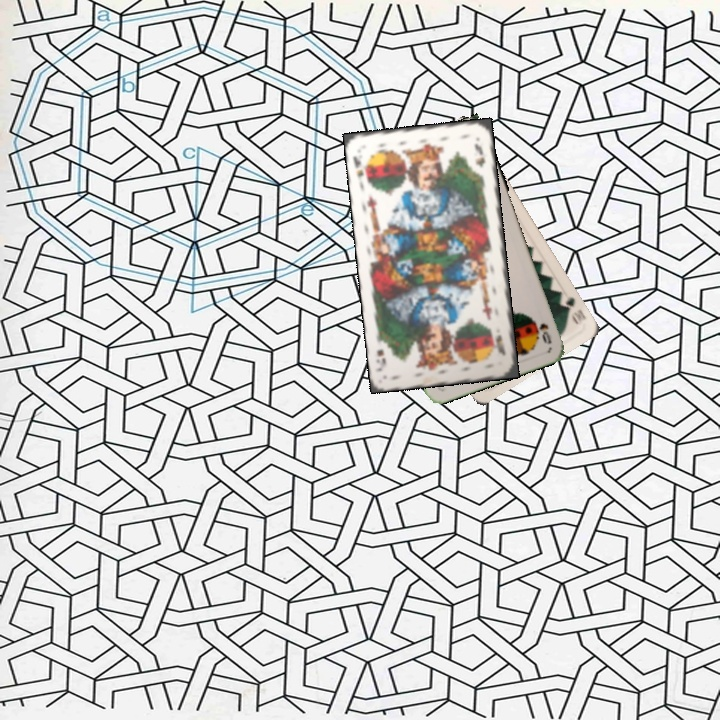G10: (556, 292, 589, 328)
SK: (349, 152, 371, 188), (491, 331, 508, 358)
SO: (530, 316, 554, 347)
